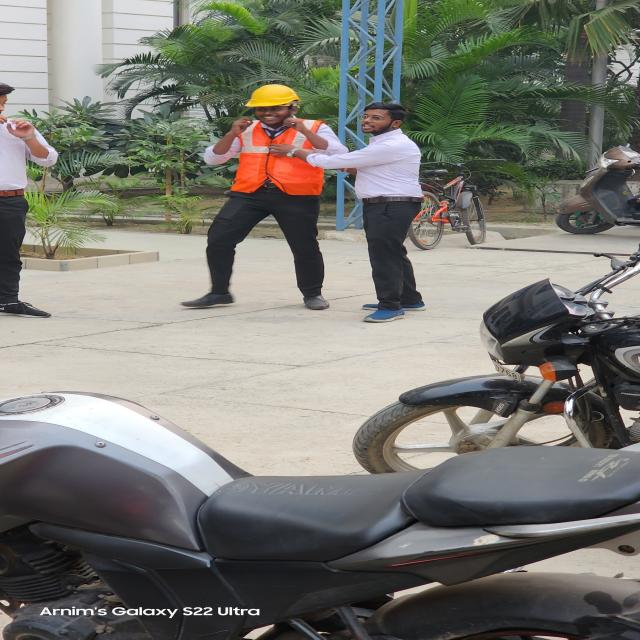safe: (197, 83, 334, 319)
unsafe: (339, 100, 433, 322)
